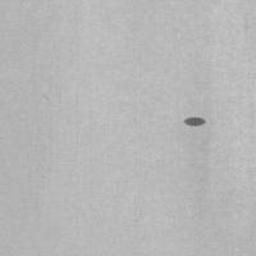Inclusion: (183, 116, 206, 127)
